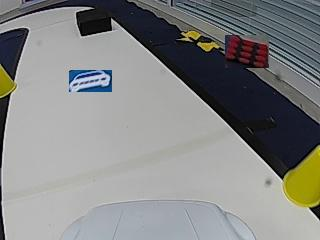block: (75, 8, 112, 36)
cone: (283, 143, 319, 207), (0, 65, 17, 96)
